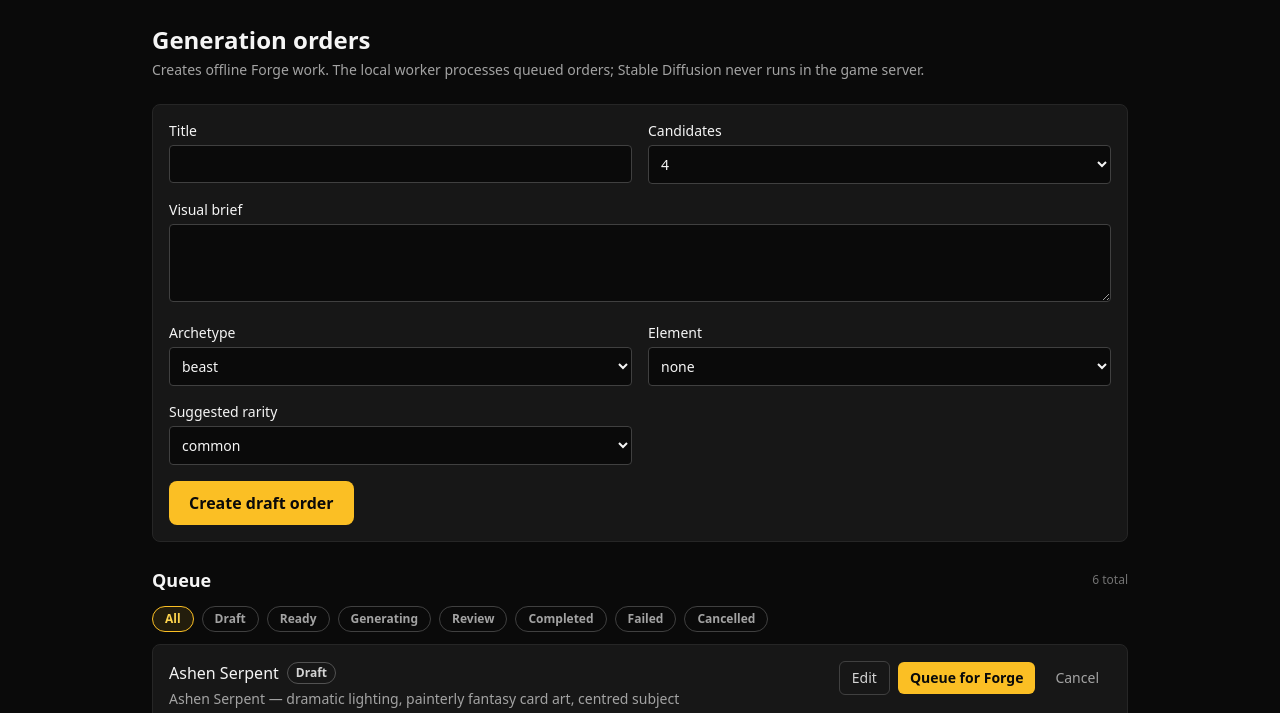
Test: GenerationOrders › filters the queue by status
The image size is (1280, 713).
Click the button "failed": {"x": 646, "y": 619} [615,606,676,632]
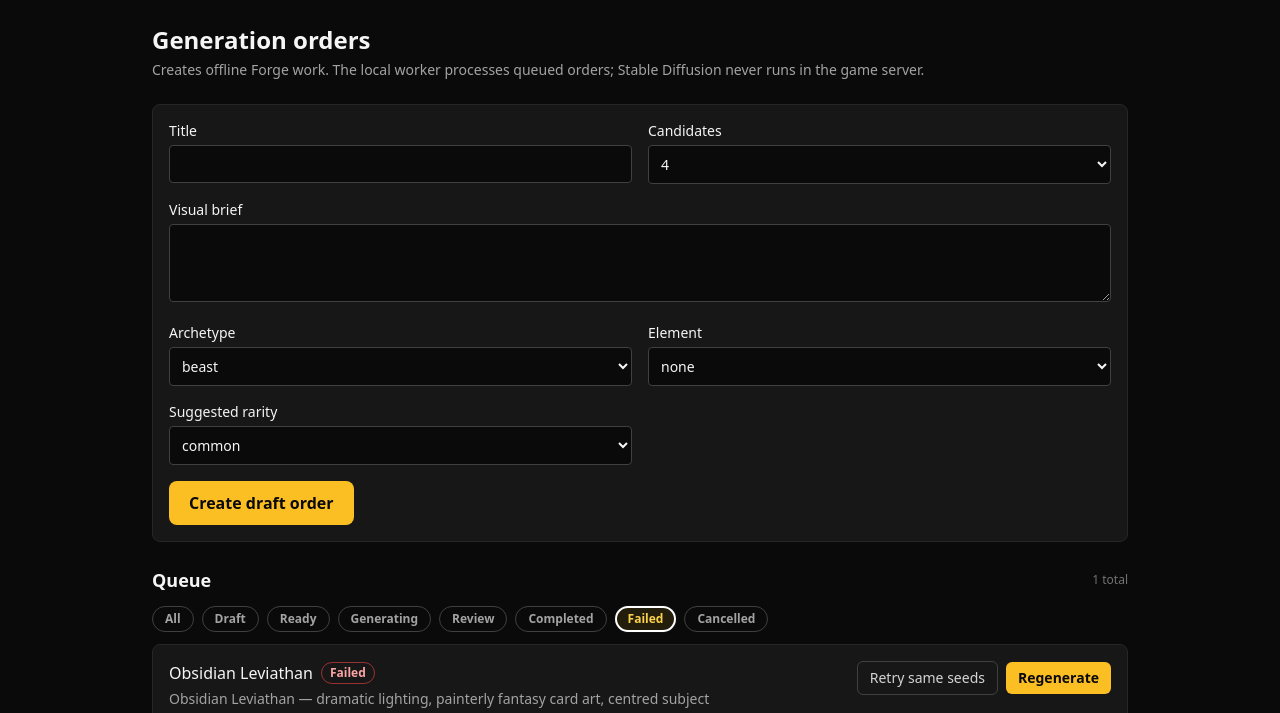
Expected: the text "Obsidian Leviathan" is shown, [169,661,313,685]
Now the text "Ashen Serpent" is gone
